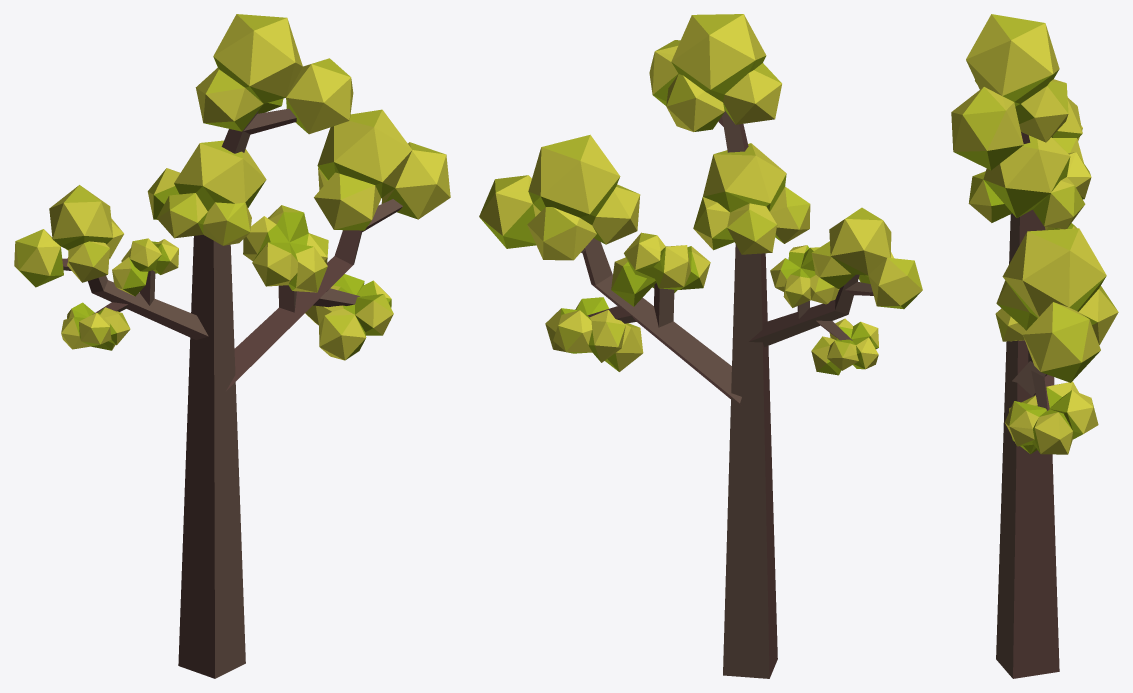
The model's file is TB_D_Env_TreeA_A.FBX.
3 views of the same model, side by side, from view 1: azimuth 30°, elevation 25°; view 2: azimuth 150°, elevation 25°; view 3: azimuth 270°, elevation 25° (orthographic). The views are drawn at different scales.
Parts seen in each view (by area): view 1: TB_D_Env_TreeA_A; view 2: TB_D_Env_TreeA_A; view 3: TB_D_Env_TreeA_A.
Boxes of the visible parts, x1=… form: TB_D_Env_TreeA_A: x1=14, y1=14, x2=450, y2=678; TB_D_Env_TreeA_A: x1=479, y1=14, x2=922, y2=678; TB_D_Env_TreeA_A: x1=951, y1=14, x2=1118, y2=678.
Size of the model in its own units: 8.98 by 12.75 by 2.91.
